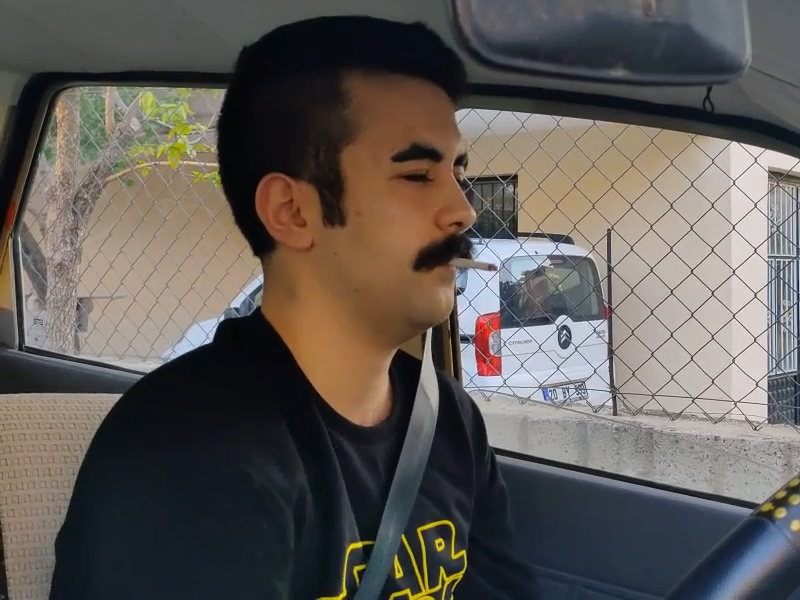sigara: (443, 252, 504, 276)
